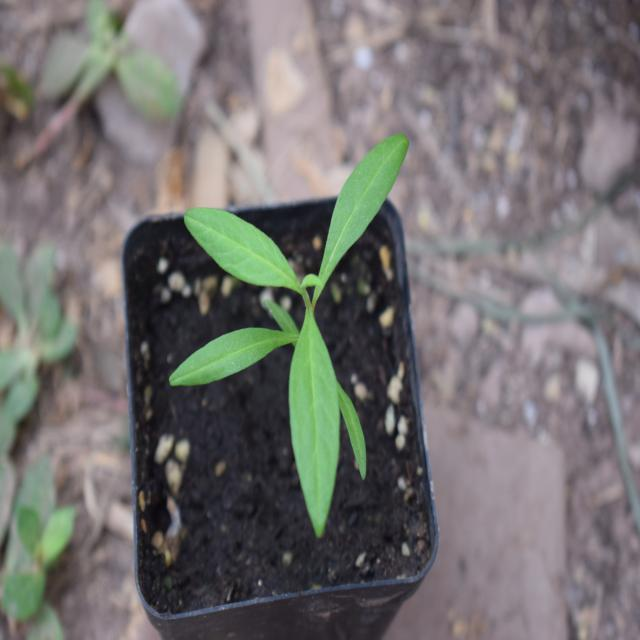white_smart_weed: (140, 109, 444, 531)
